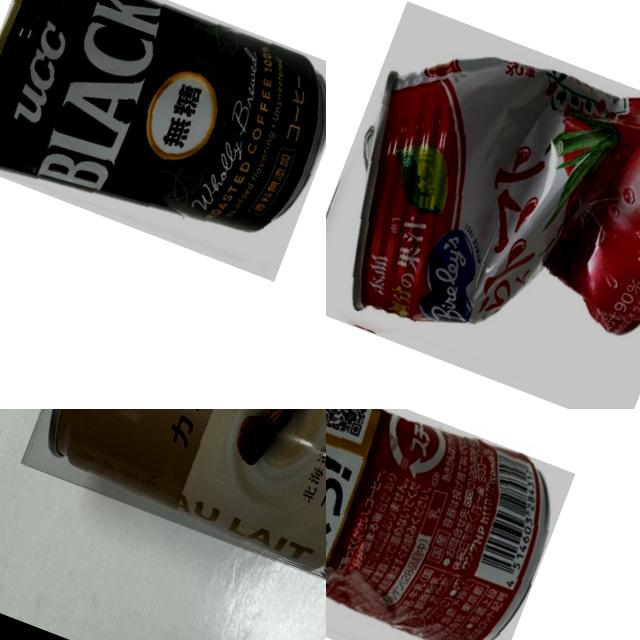Can: (326, 0, 640, 409), (0, 0, 326, 281), (326, 409, 575, 640), (20, 409, 326, 591)
